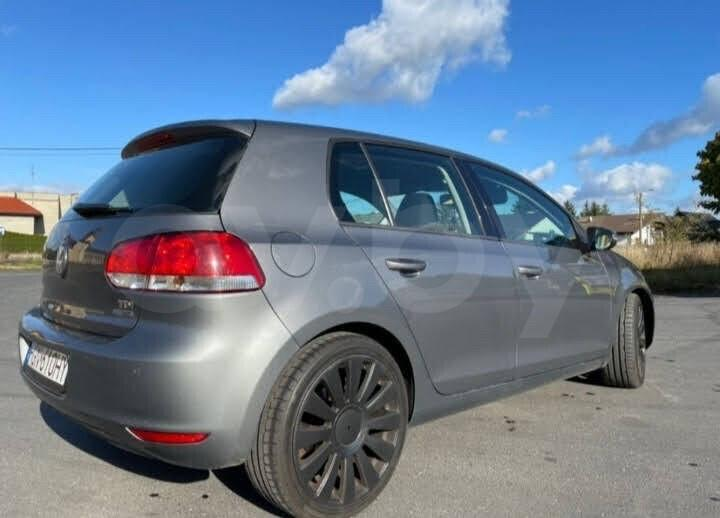Golf_2008-2013: (17, 120, 665, 518)
